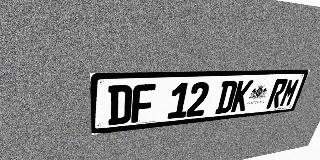1: (167, 82, 192, 119)
2: (186, 82, 210, 117)
D: (108, 85, 133, 125), (215, 81, 238, 114)
F: (131, 84, 156, 123)
K: (230, 80, 254, 112)
M: (278, 78, 301, 107)
R: (266, 79, 289, 109)
